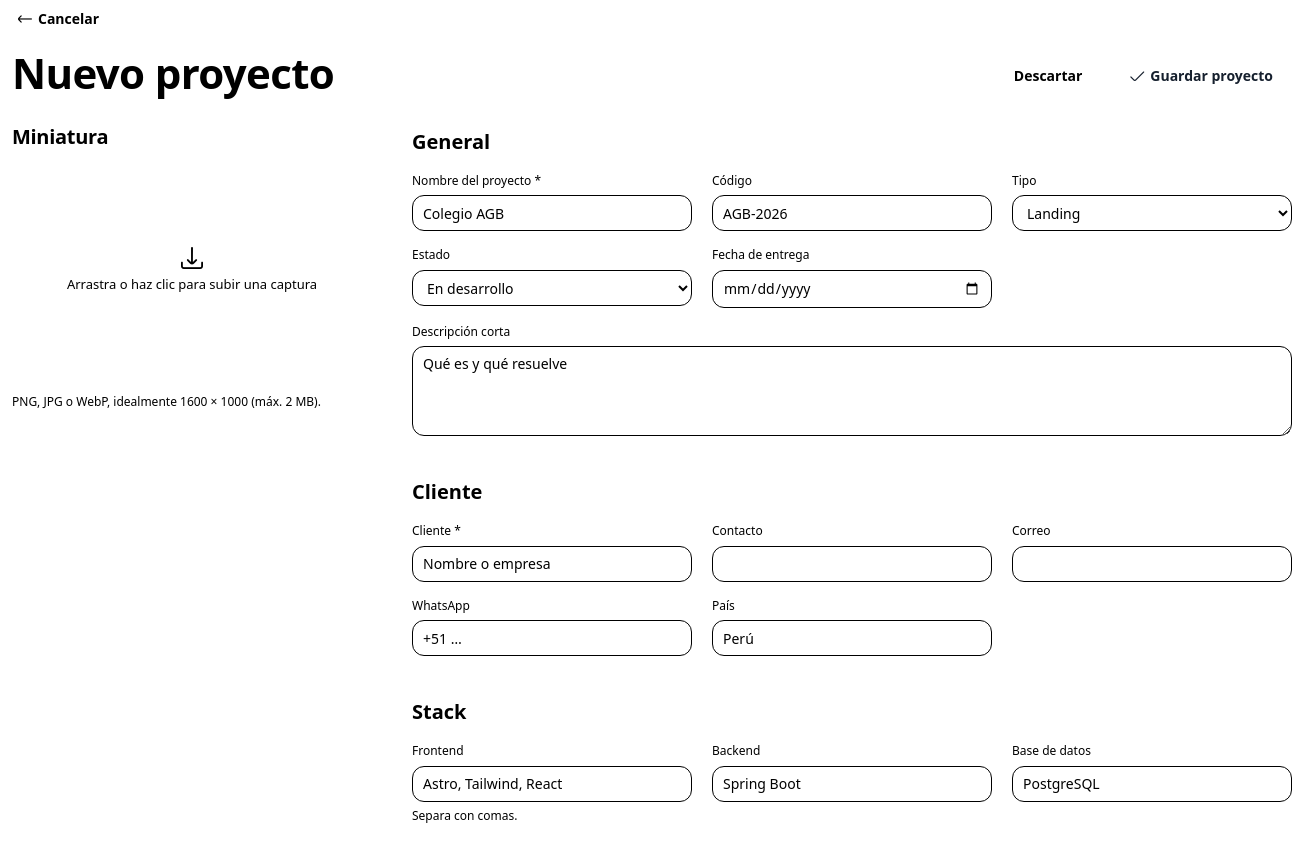
Test case: /proyectos/nuevo › vacío: errores en cada campo obligatorio, resumen y foco en el primero
Click the button "Guardar proyecto": (1202, 76) left=1111, top=57, right=1292, bottom=96
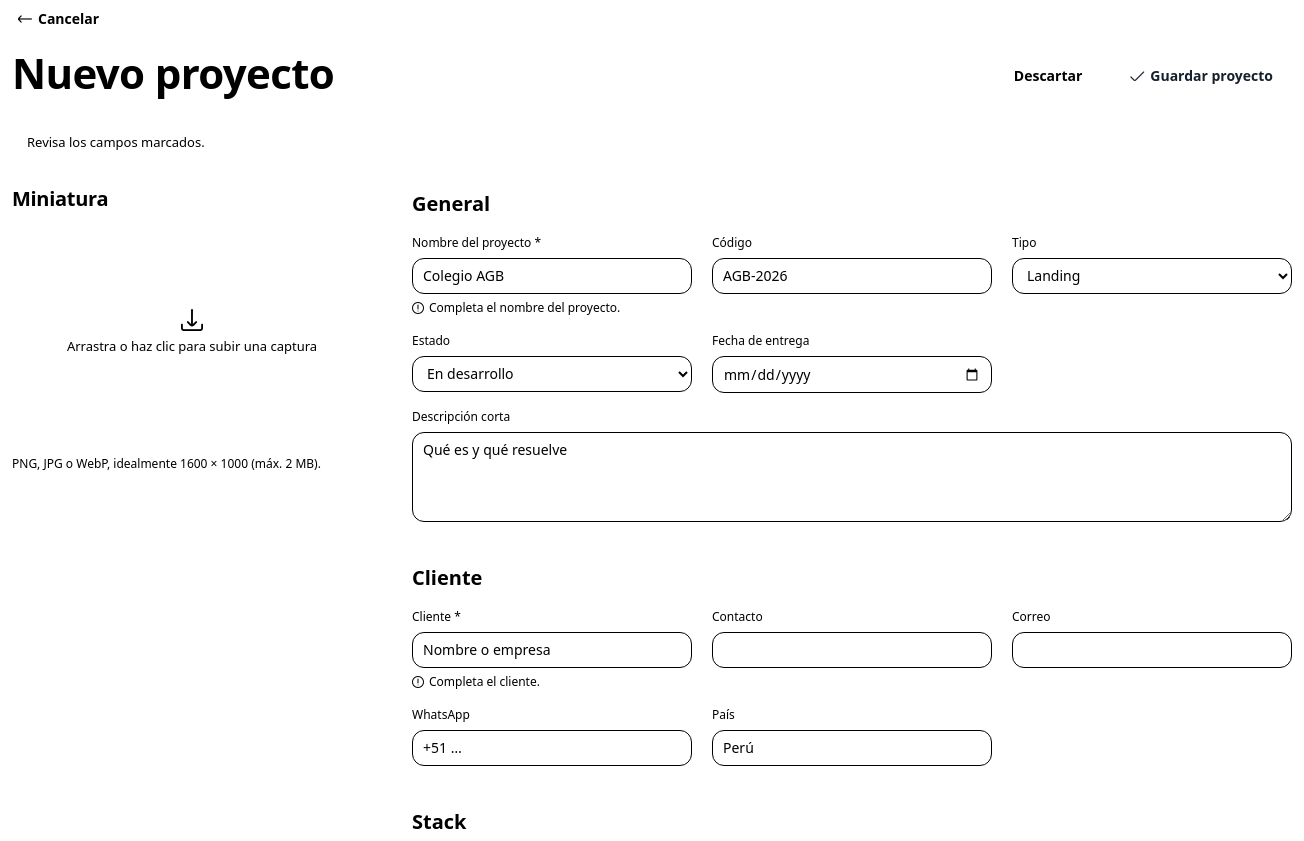
Expected: the message reads "Revisa los campos marcados.", left=27, top=133, right=205, bottom=151
